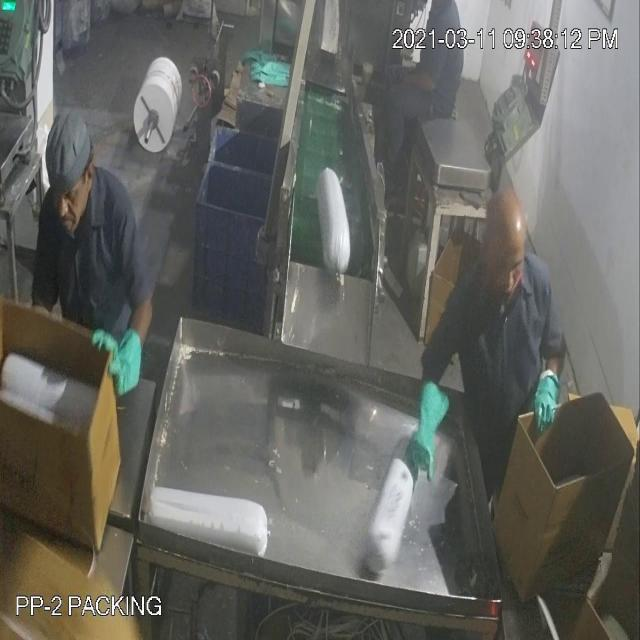Gloves: (40, 86, 551, 426)
